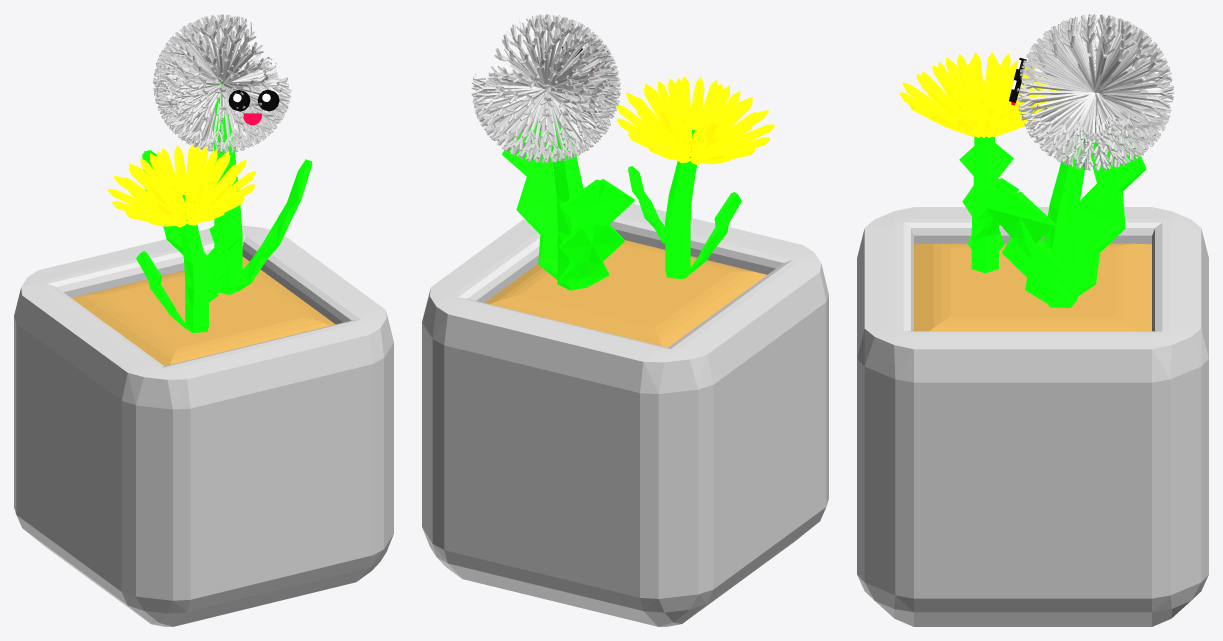
Rendered from STR_3D_dandelion_2.dae.
3 renders of one model, left to right at view 1: azimuth 30°, elevation 25°; view 2: azimuth 150°, elevation 25°; view 3: azimuth 270°, elevation 25°, orthographic. The views are drawn at different scales.
Visible parts, largest first — view 1: pot.001, Cylinder.014, soil.001, freesia_flower.017, Cylinder.001, Plane.001, Cylinder.002, Plane.004, Plane.003, Cylinder.013; view 2: pot.001, Cylinder.014, soil.001, freesia_flower.017, Plane.002, Plane.001, Cylinder.001, Cylinder.002, Plane.003, Plane.004; view 3: pot.001, Cylinder.014, soil.001, freesia_flower.017, Plane.002, Plane.001, Cylinder.002, Cylinder.001, Plane.004, Plane.003.
Part boxes in pixels (x1,y1,x2,y2): pot.001: (14,225,393,626); Cylinder.014: (153,14,291,153); soil.001: (71,256,335,365); freesia_flower.017: (108,144,255,227); Cylinder.001: (179,195,208,332); Plane.001: (236,159,312,291); Cylinder.002: (213,82,242,294); Plane.004: (205,218,240,302); Plane.003: (136,250,191,331); Cylinder.013: (228,89,279,125); pot.001: (422,203,828,626); Cylinder.014: (471,14,620,163); soil.001: (485,240,767,347); freesia_flower.017: (616,76,774,164); Plane.002: (559,179,634,286); Plane.001: (502,120,557,279); Cylinder.001: (665,129,696,278); Cylinder.002: (551,119,588,290); Plane.003: (683,192,741,278); Plane.004: (628,166,666,244); pot.001: (857,207,1208,626); Cylinder.014: (1016,14,1173,170); soil.001: (914,243,1151,331); freesia_flower.017: (899,52,1058,137); Plane.002: (1076,141,1146,296); Plane.001: (986,190,1072,307); Cylinder.002: (1044,139,1084,307); Cylinder.001: (971,136,998,273); Plane.004: (972,178,1018,241); Plane.003: (959,143,1013,251).
Bounding box in the file's own units: 2 × 2 × 3.64.
